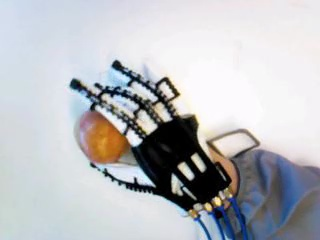apple: (73, 108, 130, 164)
hand: (69, 60, 231, 218)
